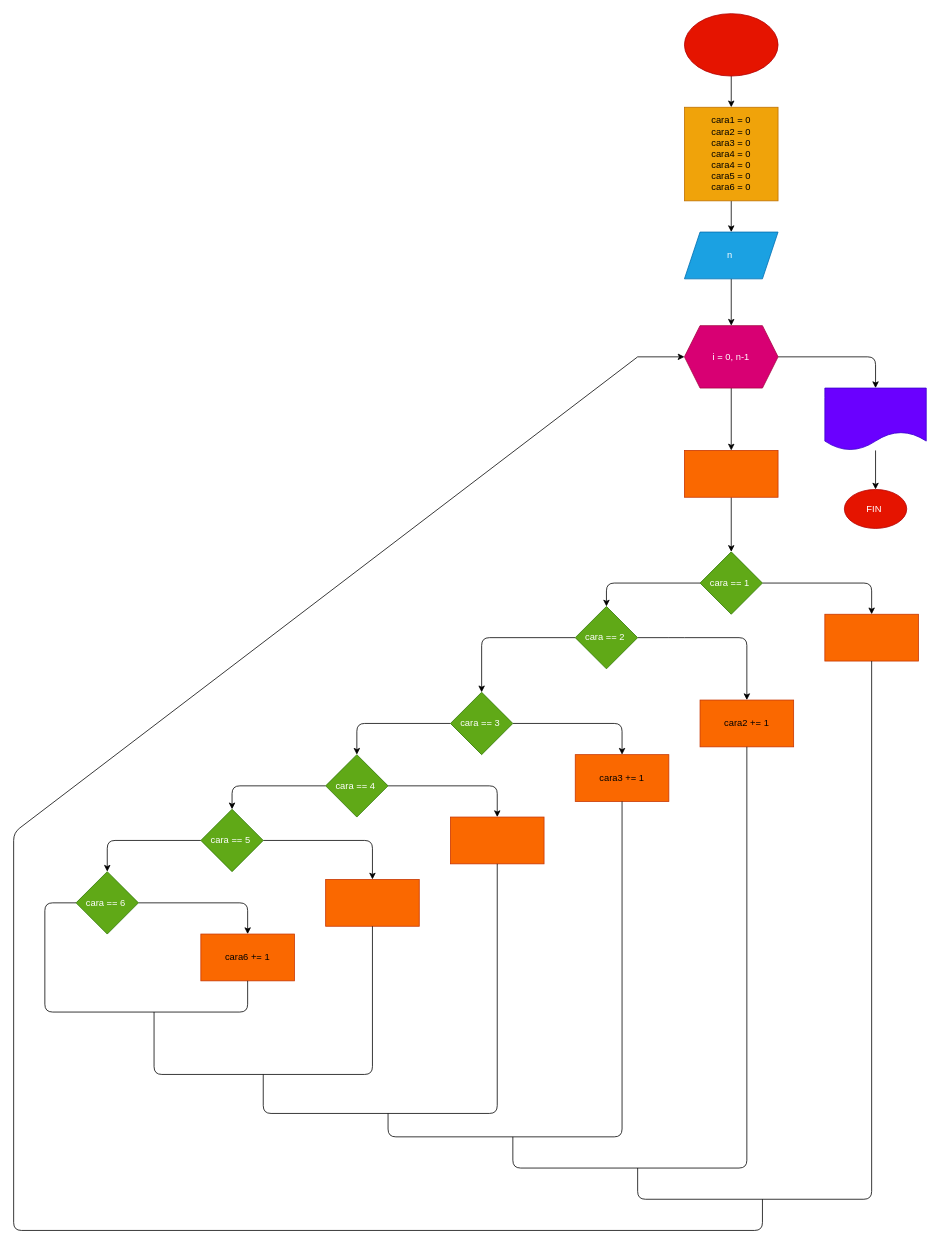
The diagram is 940 pixels wide and 1245 high, and some of its shapes have lost their labels. The shapes that lost their labels are listed below. From the top down, each one's centre as x and y in pixels, then its label:
[731,44]: INICIO
[875,418]: cara1 * "*", cara2 * "*", cara3 * "*",cara4 * "*", cara5 * "*", cara6 * "*"
[731,473]: cara = randint(1, 6)
[871,637]: cara1 += 1
[497,840]: cara4 += 1
[372,902]: cara5 += 1
